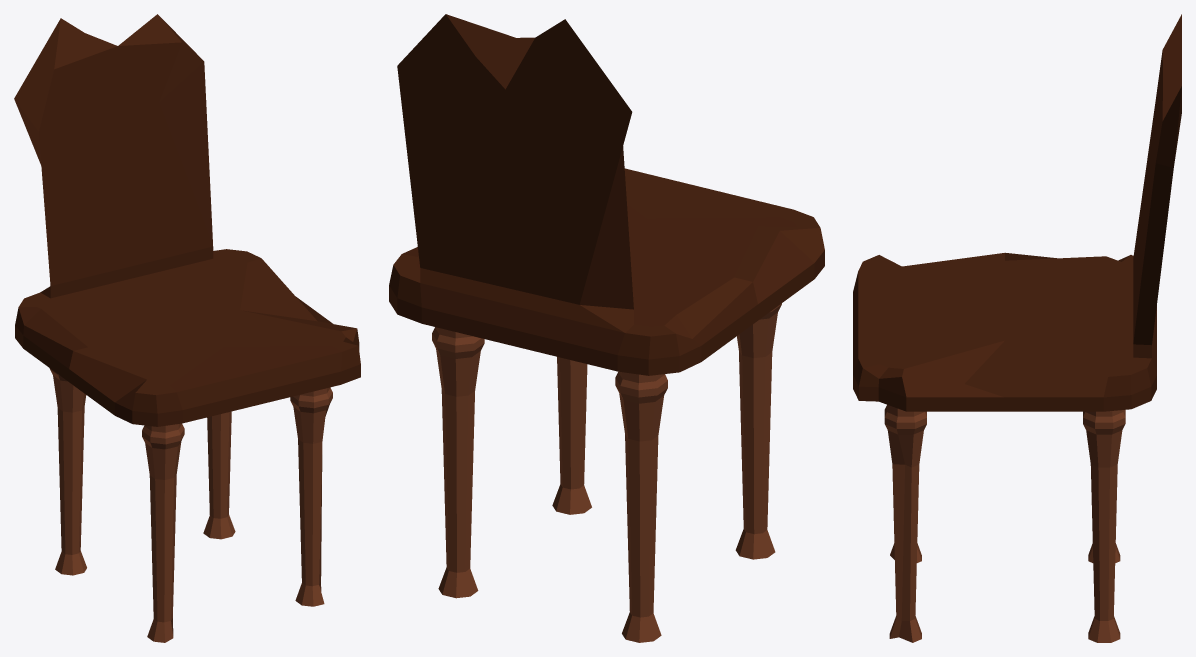
File: ChairBroken.glb
3 renders of one model, left to right at view 1: azimuth 30°, elevation 25°; view 2: azimuth 150°, elevation 25°; view 3: azimuth 270°, elevation 25°, orthographic. The views are drawn at different scales.
Parts seen in each view (by area): view 1: ChairBroke-col; view 2: ChairBroke-col; view 3: ChairBroke-col.
Boxes of the visible parts, x1,y1,x2,y2 form: ChairBroke-col: [14, 14, 360, 642]; ChairBroke-col: [389, 14, 824, 642]; ChairBroke-col: [853, 14, 1181, 642].
Size of the model in its own units: 3 by 6.08 by 3.25.
1 material, 1 textured.
